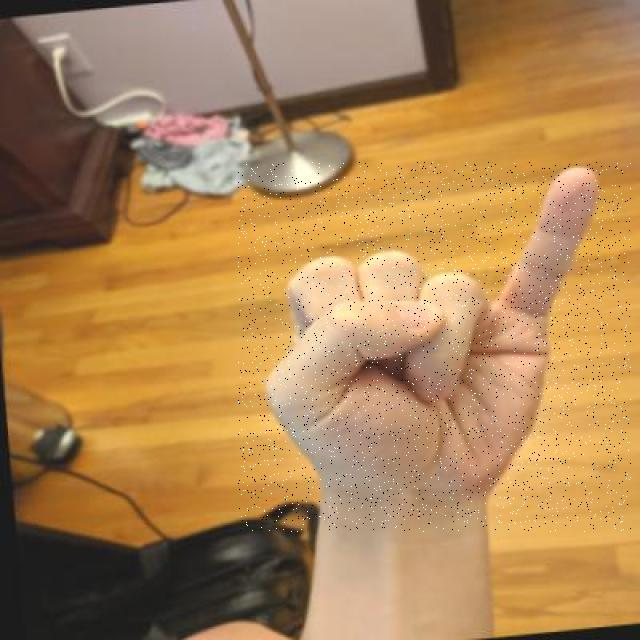I: (238, 162, 631, 532)
